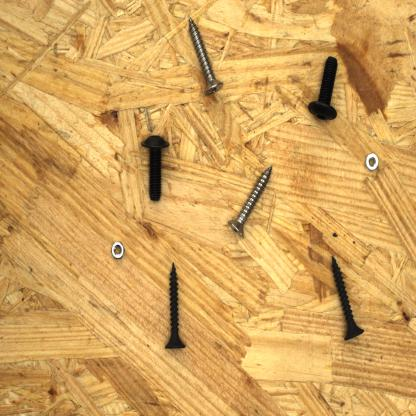screw: (226, 162, 276, 240), (184, 12, 226, 100), (328, 253, 368, 345), (304, 51, 341, 125), (161, 258, 188, 354), (139, 131, 173, 204)
